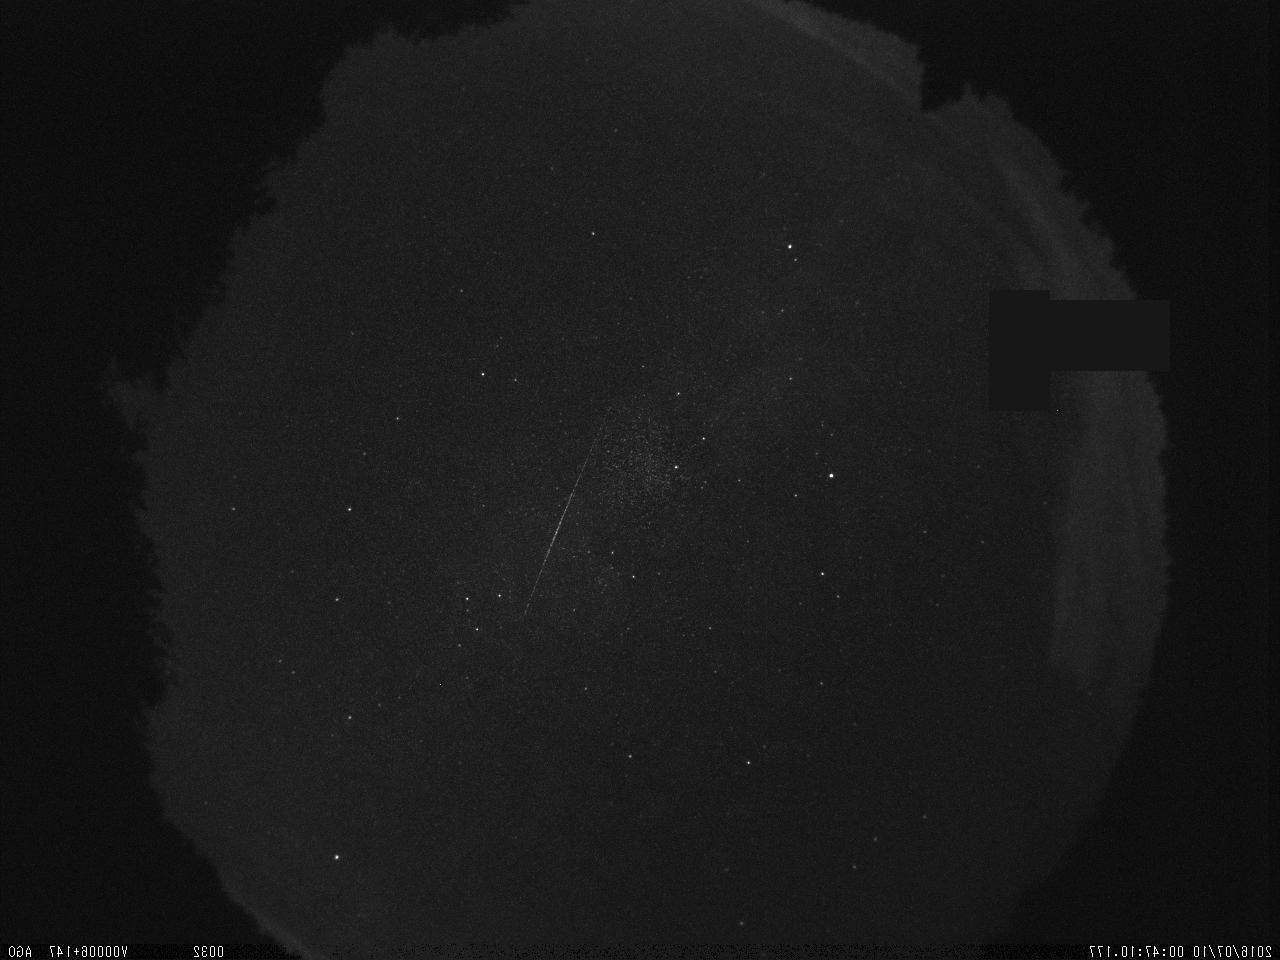meteor: (426, 394, 647, 661)
